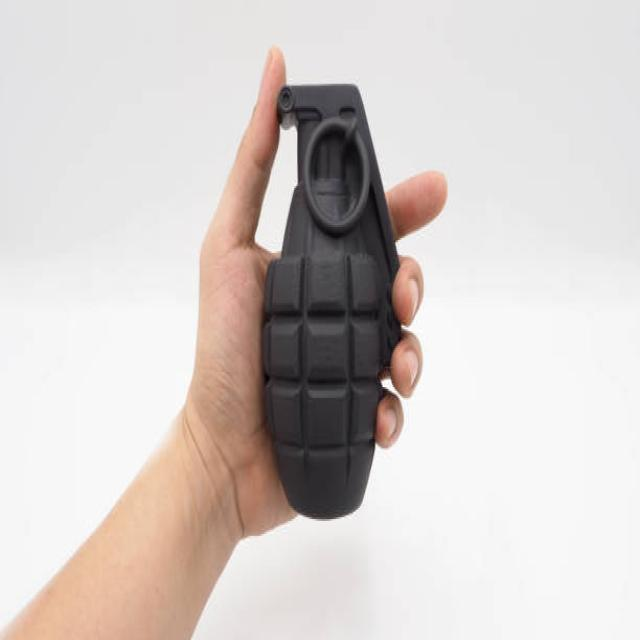grenade: (264, 79, 405, 523)
